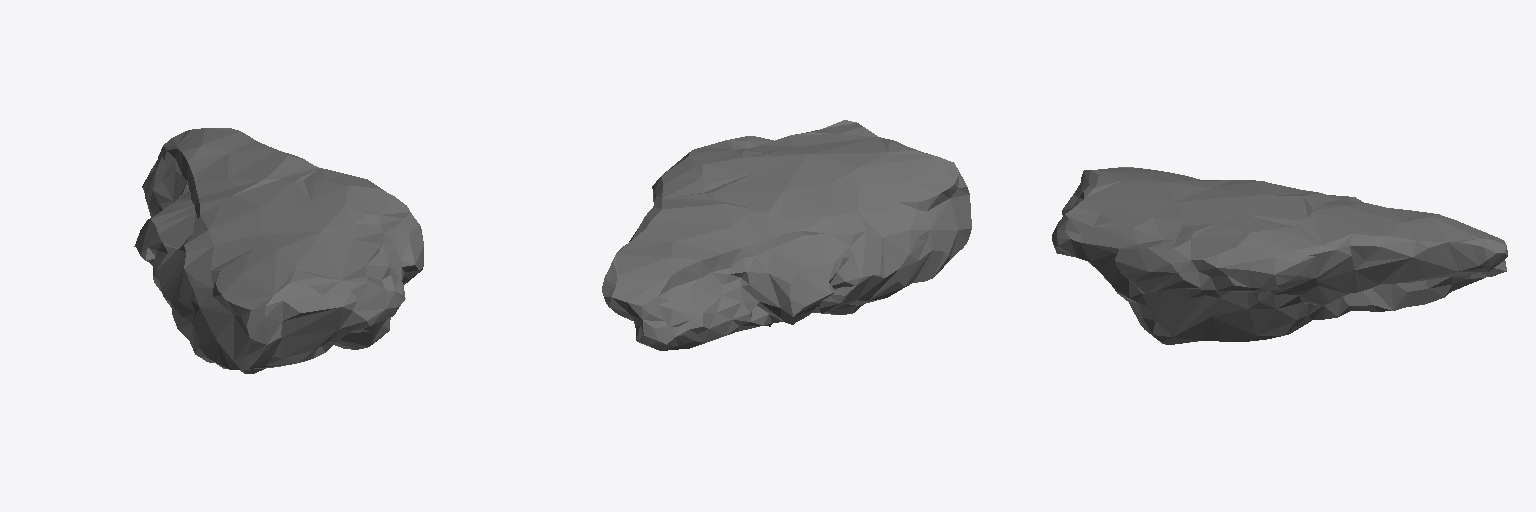
Rendered from rock.obj.
3 renders of one model, left to right at view 1: azimuth 30°, elevation 25°; view 2: azimuth 150°, elevation 25°; view 3: azimuth 270°, elevation 25°, orthographic.
Parts seen in each view (by area): view 1: Obj_Stone_01; view 2: Obj_Stone_01; view 3: Obj_Stone_01.
Boxes of the visible parts, x1,y1,x2,y2 form: Obj_Stone_01: [134, 128, 423, 373]; Obj_Stone_01: [602, 120, 971, 350]; Obj_Stone_01: [1052, 167, 1507, 344].
Bounding box in the file's own units: 110 × 55.04 × 184.